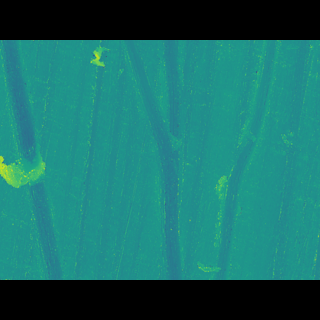Loch: (118, 68, 197, 251), (207, 69, 280, 249), (0, 67, 67, 250), (0, 149, 51, 181), (84, 71, 117, 92)
